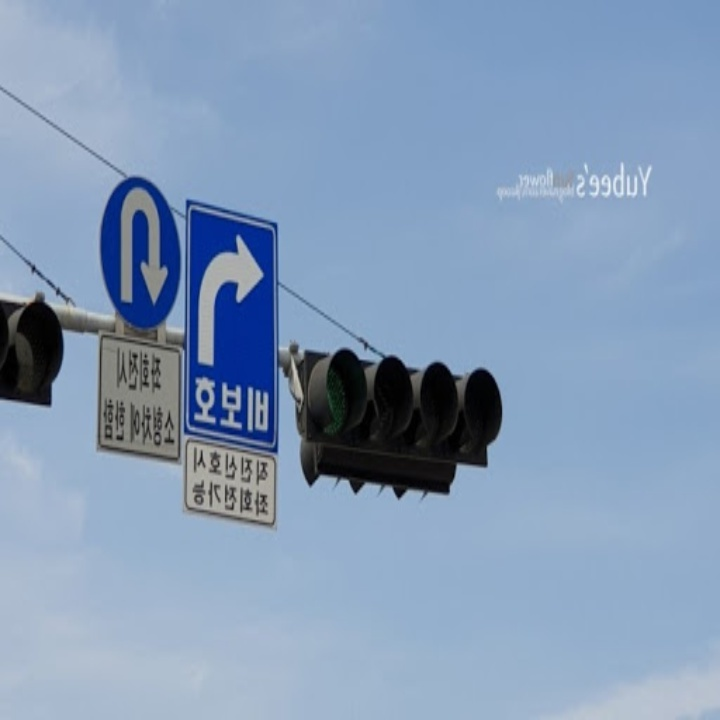right: (188, 230, 269, 367)
